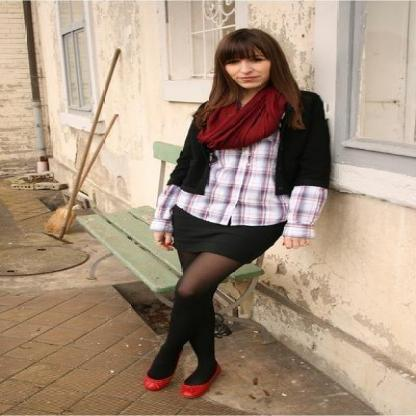jacket: (167, 91, 332, 197)
shirt: (150, 132, 326, 235)
shoe: (136, 376, 209, 398)
skirt: (166, 208, 284, 272)
